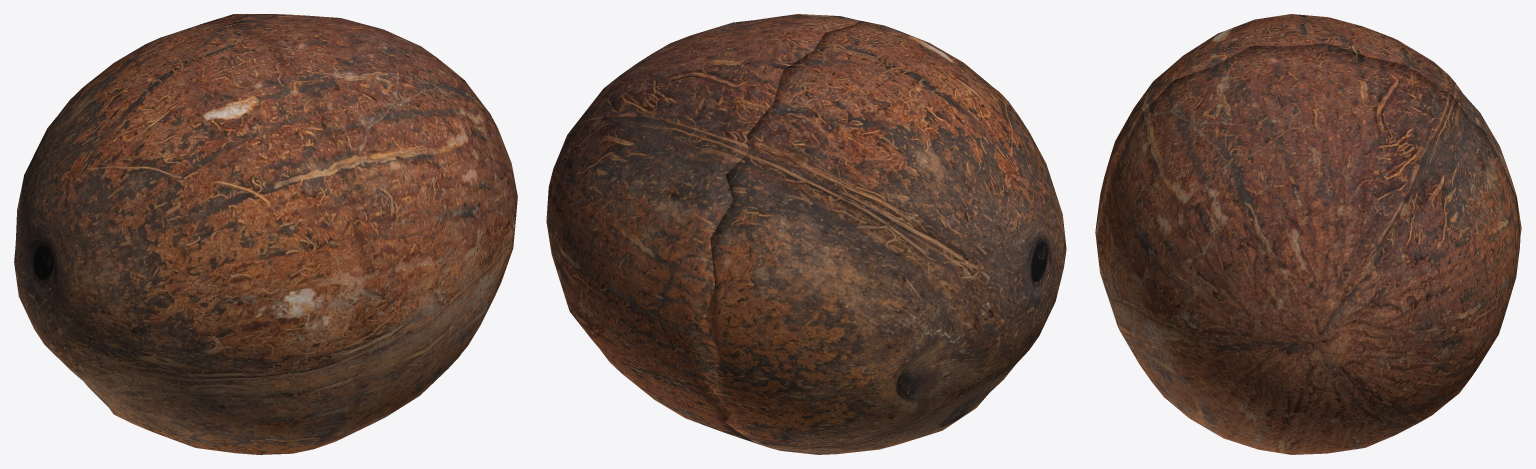
The model's file is coconut.glb.
3 renders of one model, left to right at view 1: azimuth 30°, elevation 25°; view 2: azimuth 150°, elevation 25°; view 3: azimuth 270°, elevation 25°, orthographic. The views are drawn at different scales.
Parts seen in each view (by area): view 1: coconut_left.001, coconut_right.001; view 2: coconut_left.001, coconut_right.001; view 3: coconut_right.001, coconut_left.001.
Part boxes in pixels (left/top/right/bottom): coconut_left.001: left=14, top=22, right=375, bottom=454; coconut_right.001: left=201, top=14, right=517, bottom=448; coconut_left.001: left=704, top=20, right=1066, bottom=454; coconut_right.001: left=546, top=14, right=859, bottom=446; coconut_right.001: left=1095, top=43, right=1520, bottom=454; coconut_left.001: left=1095, top=14, right=1521, bottom=235.
Bounding box in the file's own units: 0.1771 × 0.1424 × 0.1448.
Materials: 2 (1 with a texture image).
